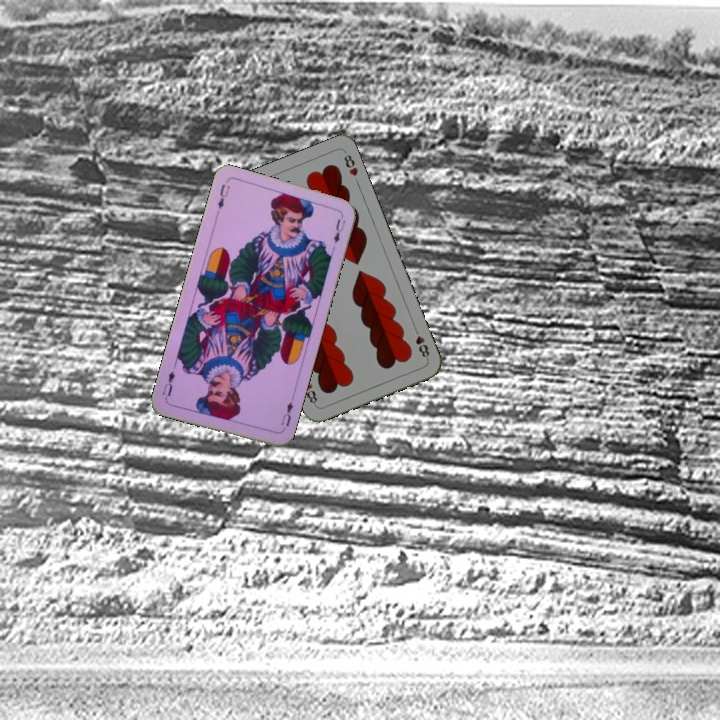EU: (277, 394, 296, 434), (213, 180, 233, 211)
H8: (410, 323, 432, 362)
